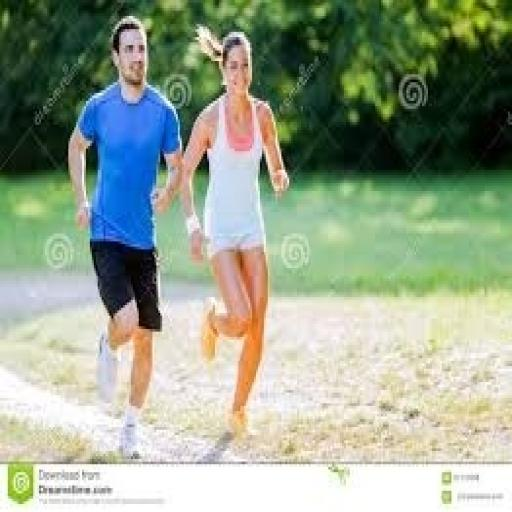running: (64, 13, 184, 462), (178, 22, 291, 440)
